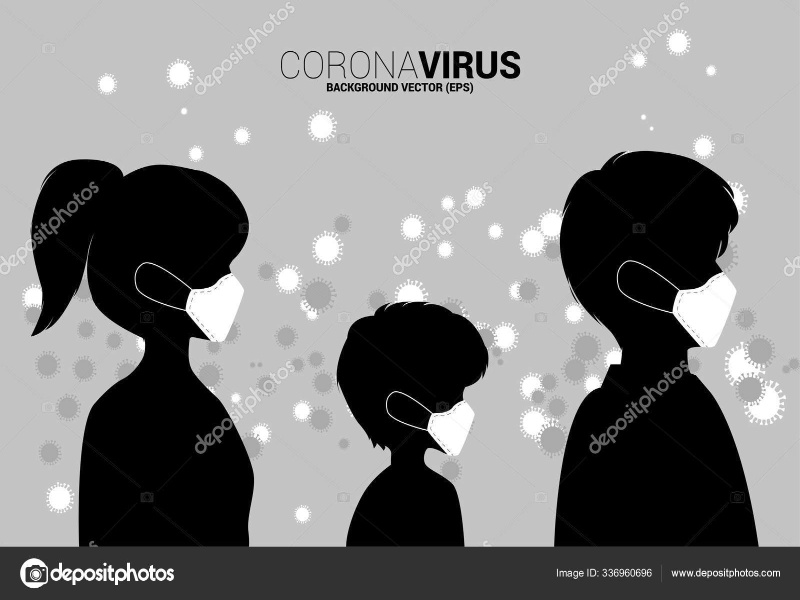ManaoArotava: (82, 151, 278, 383), (614, 149, 759, 383), (380, 318, 501, 480)
